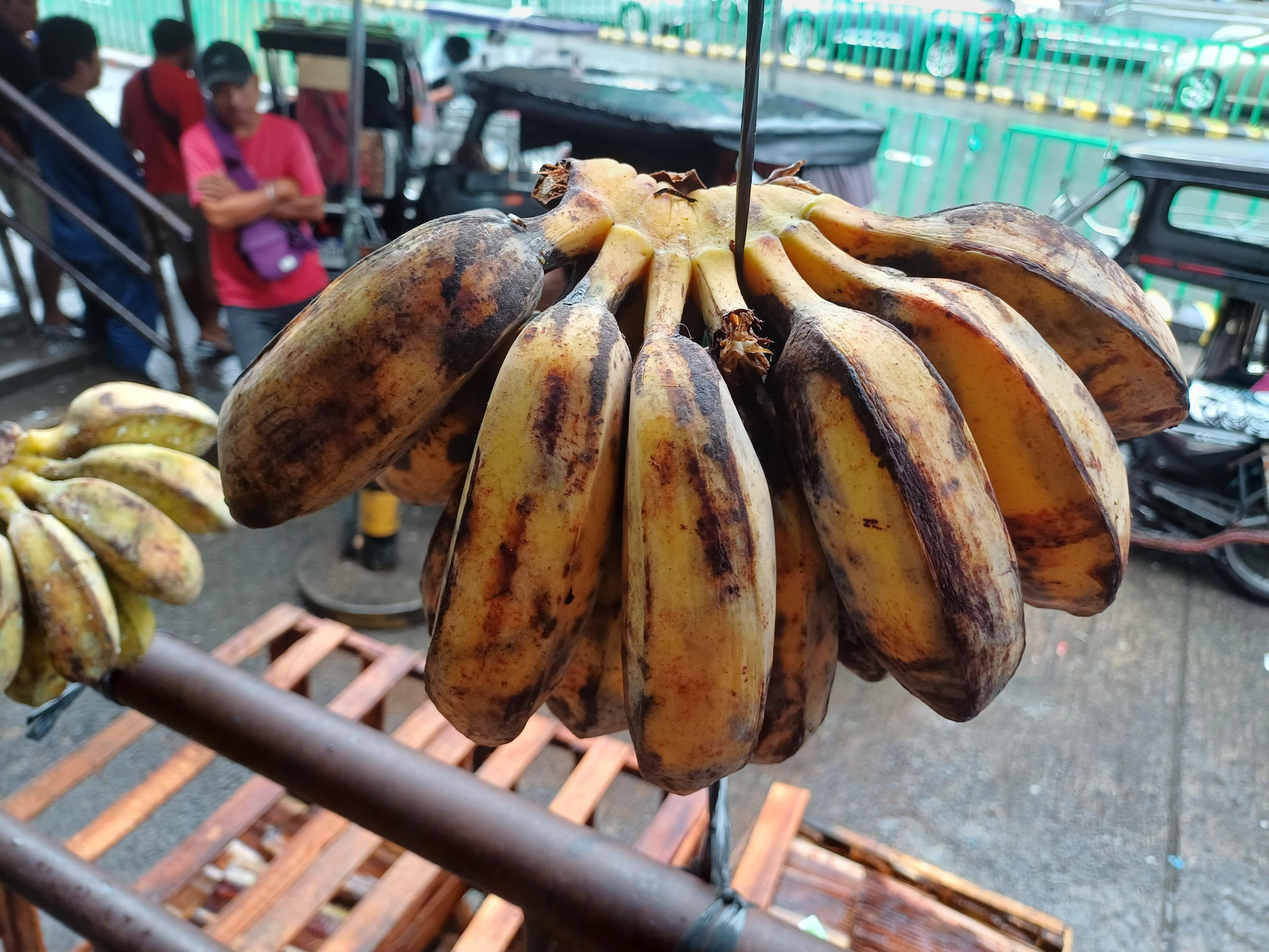ripe: (215, 200, 1192, 799)
underripe: (0, 380, 241, 709)
